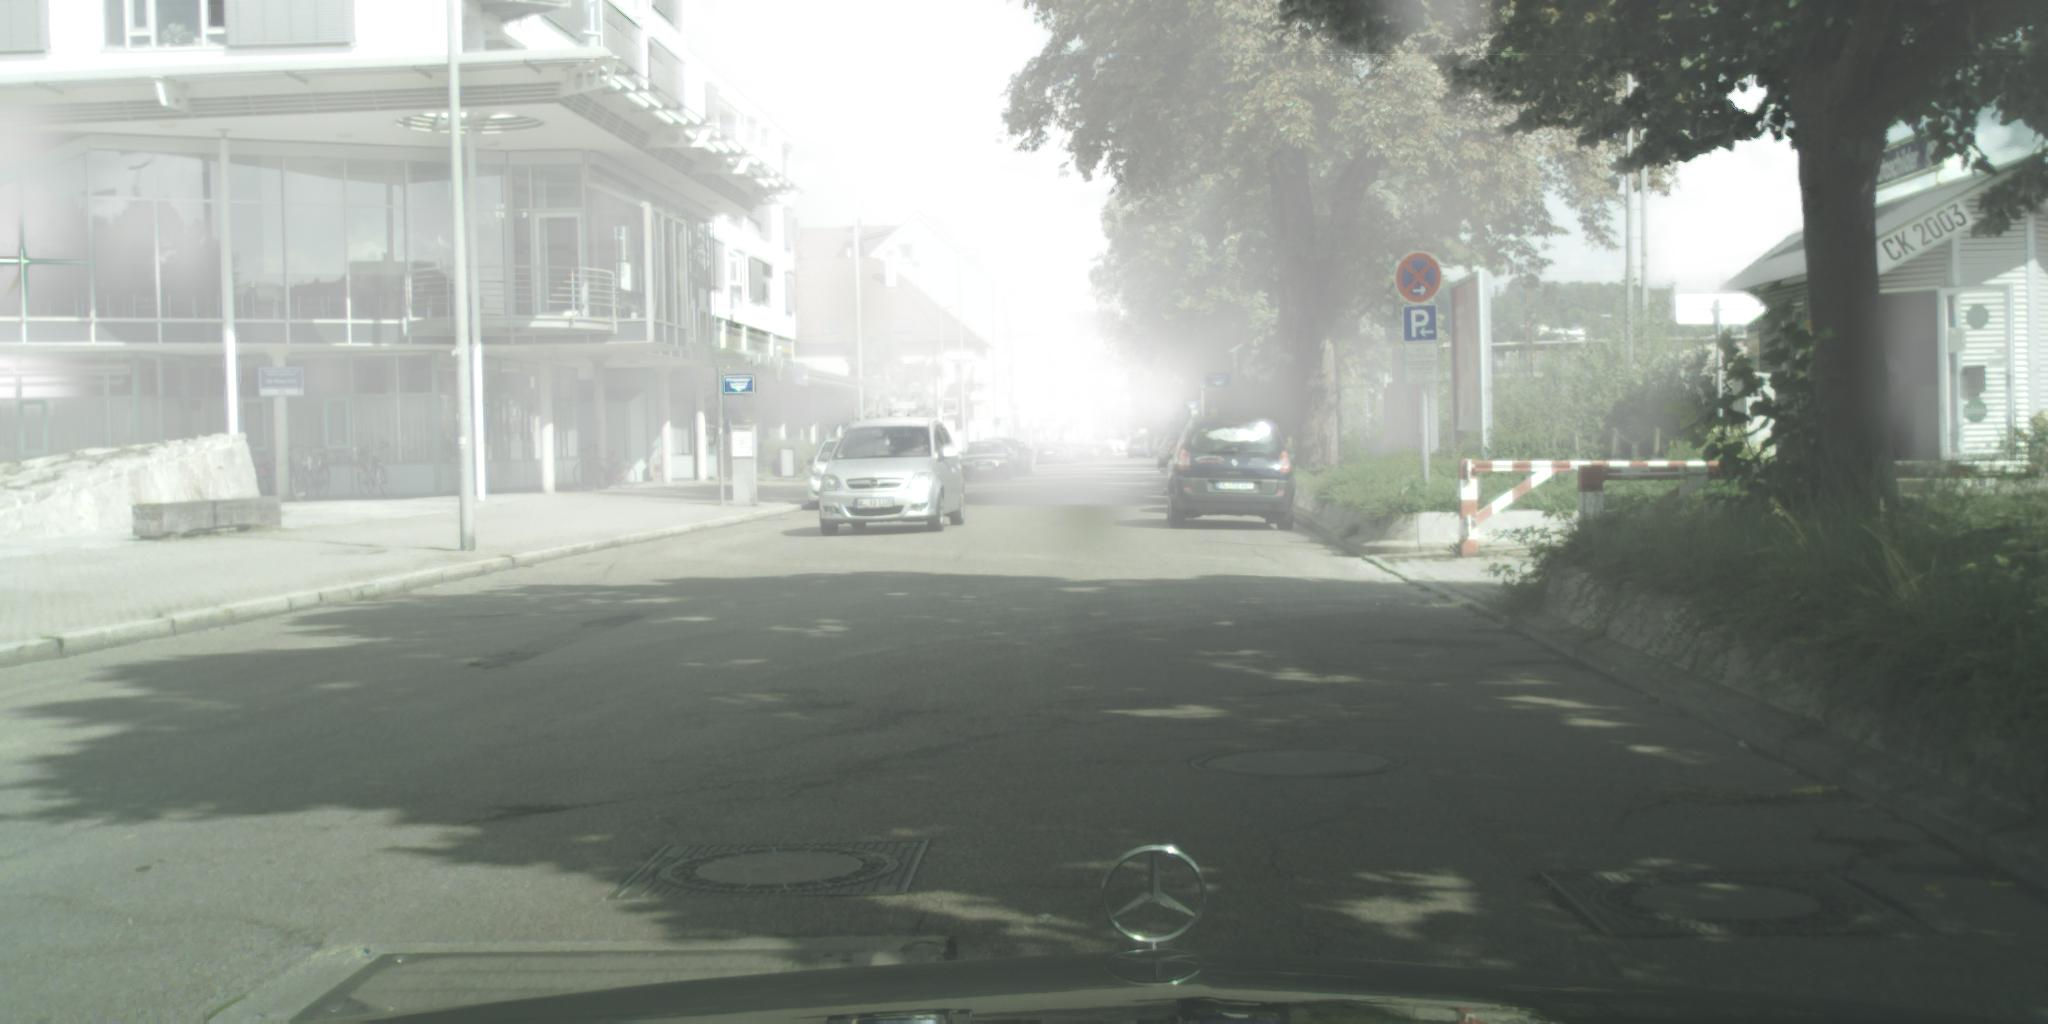bicycle: (251, 444, 311, 502), (573, 445, 639, 492), (293, 445, 338, 502), (351, 441, 394, 500)
car: (820, 418, 967, 537), (1166, 415, 1297, 532), (808, 438, 842, 511), (957, 441, 1012, 483), (985, 439, 1023, 479), (1159, 435, 1183, 472), (1015, 443, 1034, 477), (1127, 438, 1152, 458), (1149, 438, 1166, 457)
